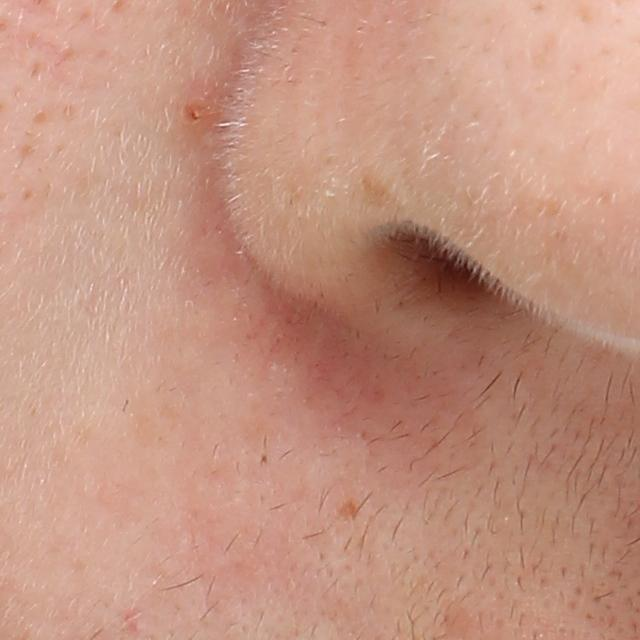atrophic_scar: (334, 497, 361, 524)
melasma: (359, 173, 417, 220)
